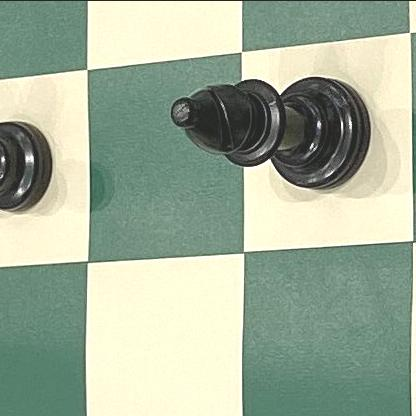bishop: (158, 46, 378, 200)
black-pawn: (0, 113, 56, 216)
